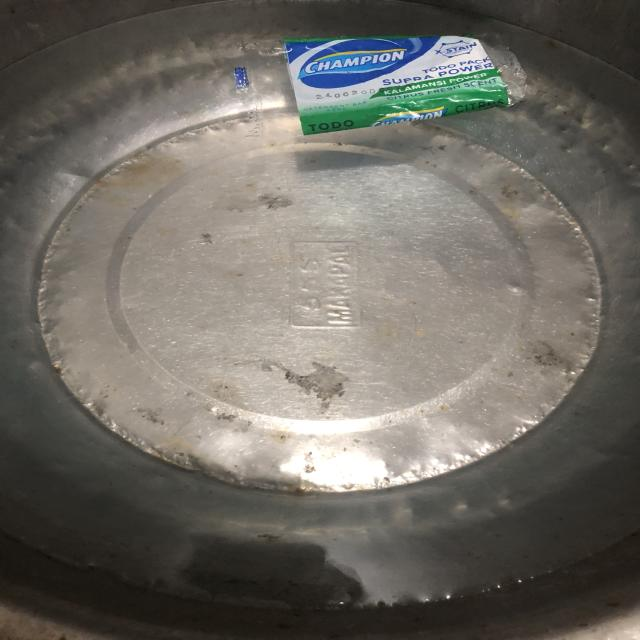Plastic Wrapper: (212, 10, 552, 173)
